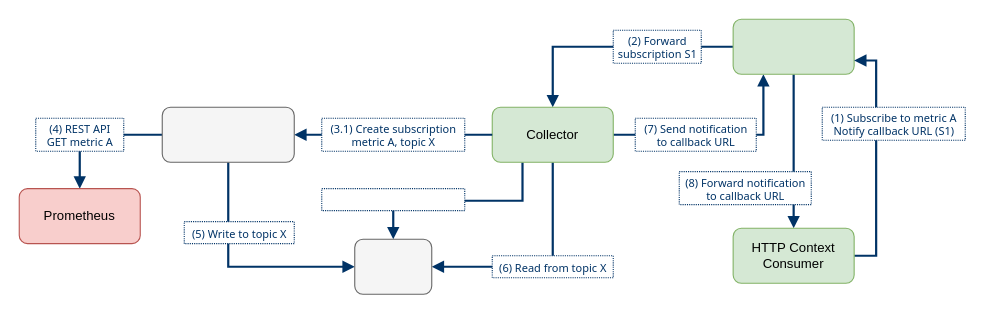
Some shapes in this 985 by 314 pixel diagram are drawn without their labels. The box of each missing label's shape, as (x1, y1, x2, y2) in pixels:
(3.2) Subscribe to topic X: (321, 188, 465, 211)
Context Broker: (732, 18, 854, 74)
Kafka: (354, 238, 432, 294)
Kafka HTTP Source Connector: (161, 106, 294, 162)
